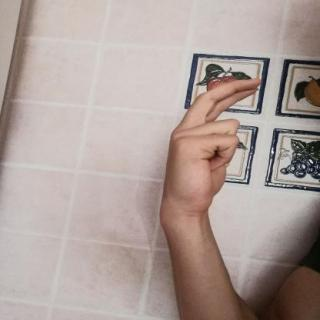ZAY: (147, 72, 270, 231)
